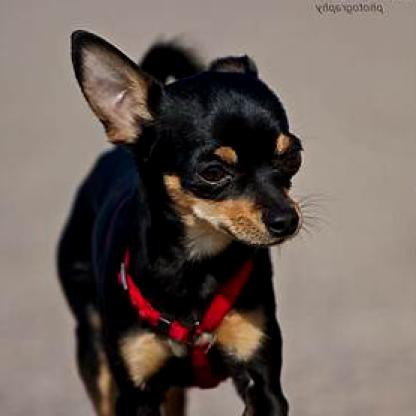dog: (54, 30, 305, 414)
